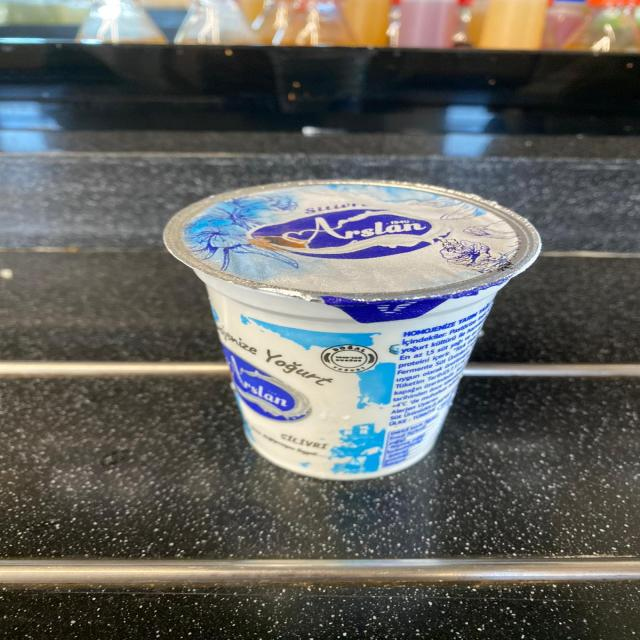yan_yemek: (160, 177, 543, 481)
